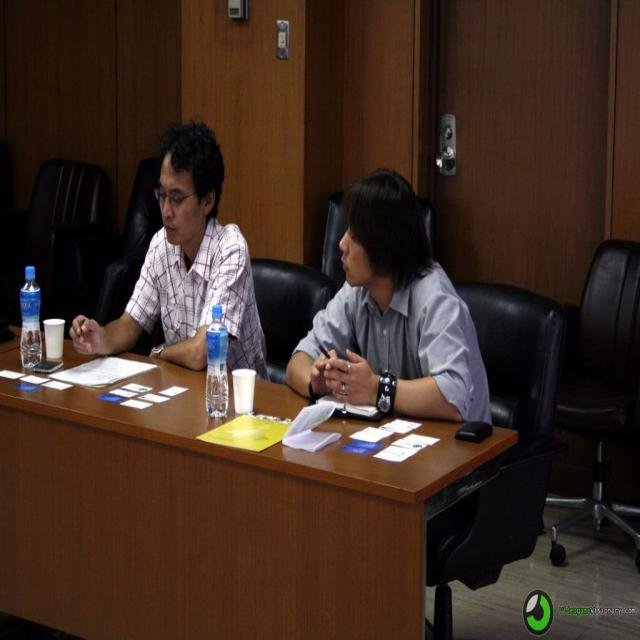chair: (427, 281, 568, 635), (547, 238, 640, 572), (0, 158, 116, 331), (60, 157, 164, 326), (250, 257, 338, 386)
desk: (2, 337, 516, 632)
person: (286, 169, 492, 423), (70, 119, 269, 376)
